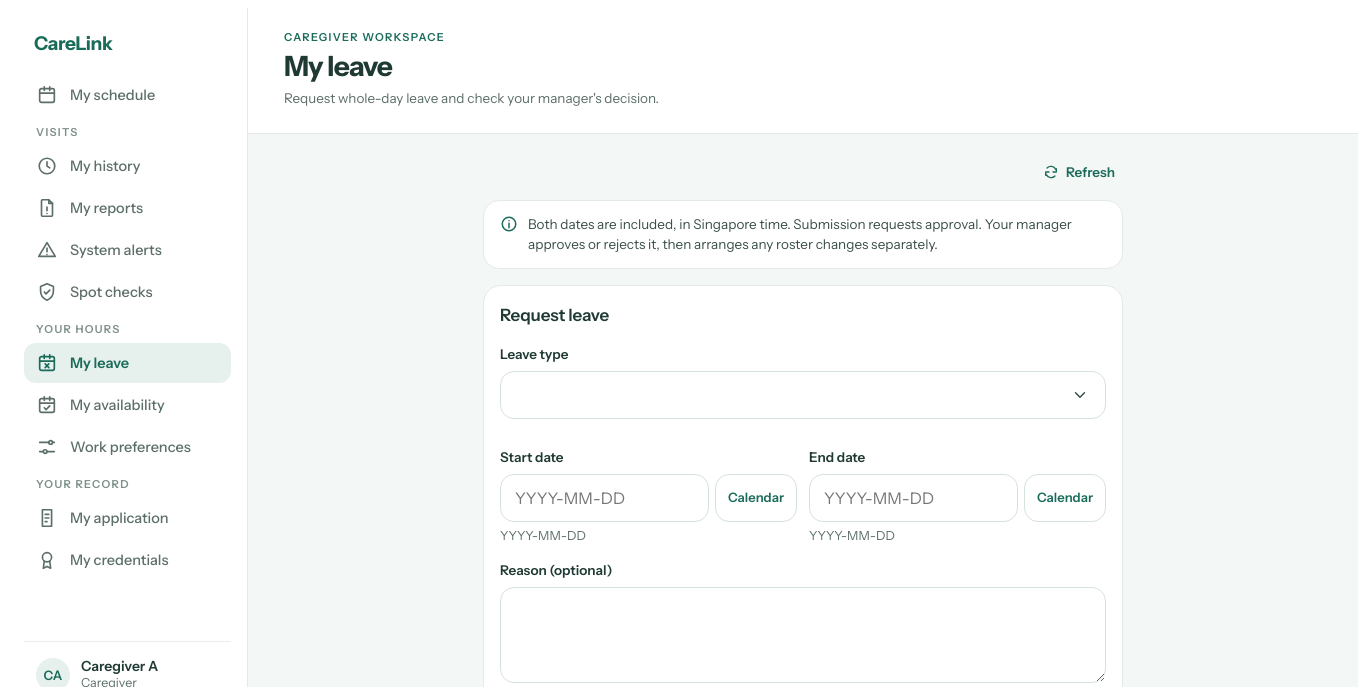
Test: caregiver leave self-service › rejects invalid or fully past dates  to
The width and height of the screenshot is (1366, 687).
Check: the heading "My leave" is shown, box [284, 49, 392, 83]
In the text box labelled "Reason (optional)": coordinates (803, 635) [500, 587, 1106, 683], type "Family time"
(page scrolled)
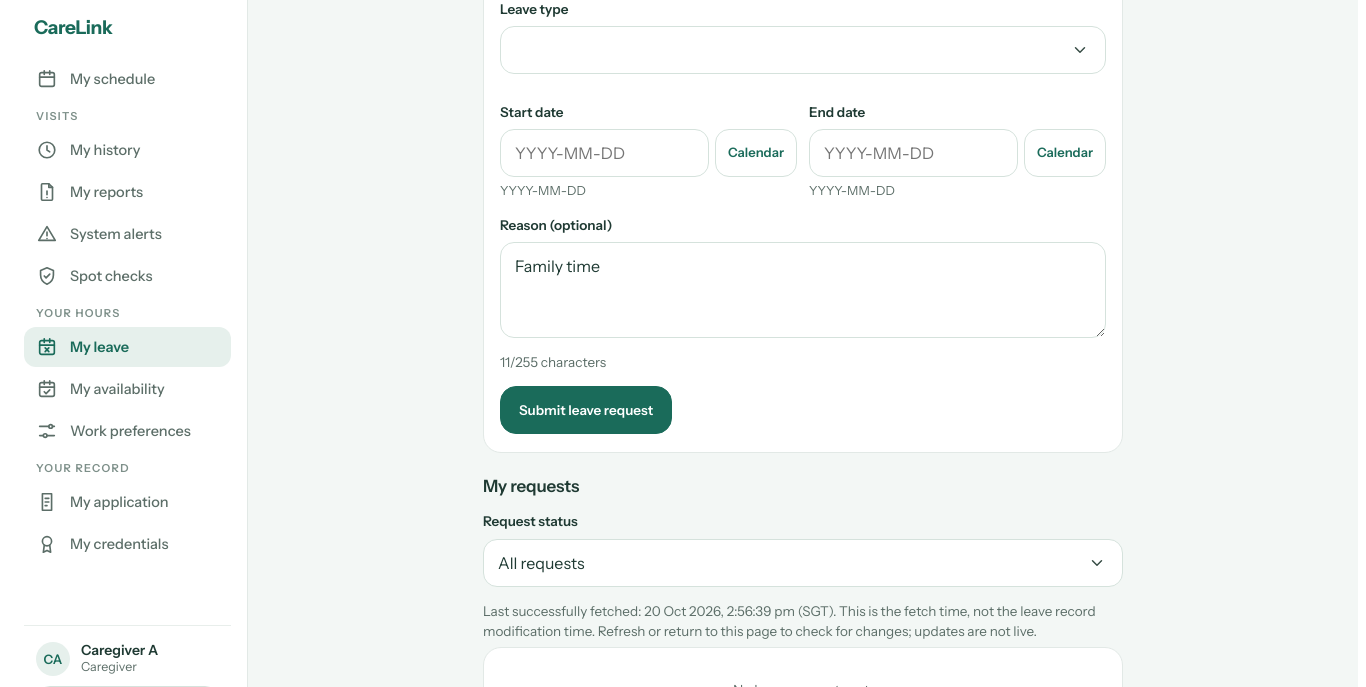
Click the button "Submit leave request": coordinates (586, 410) [500, 386, 672, 434]
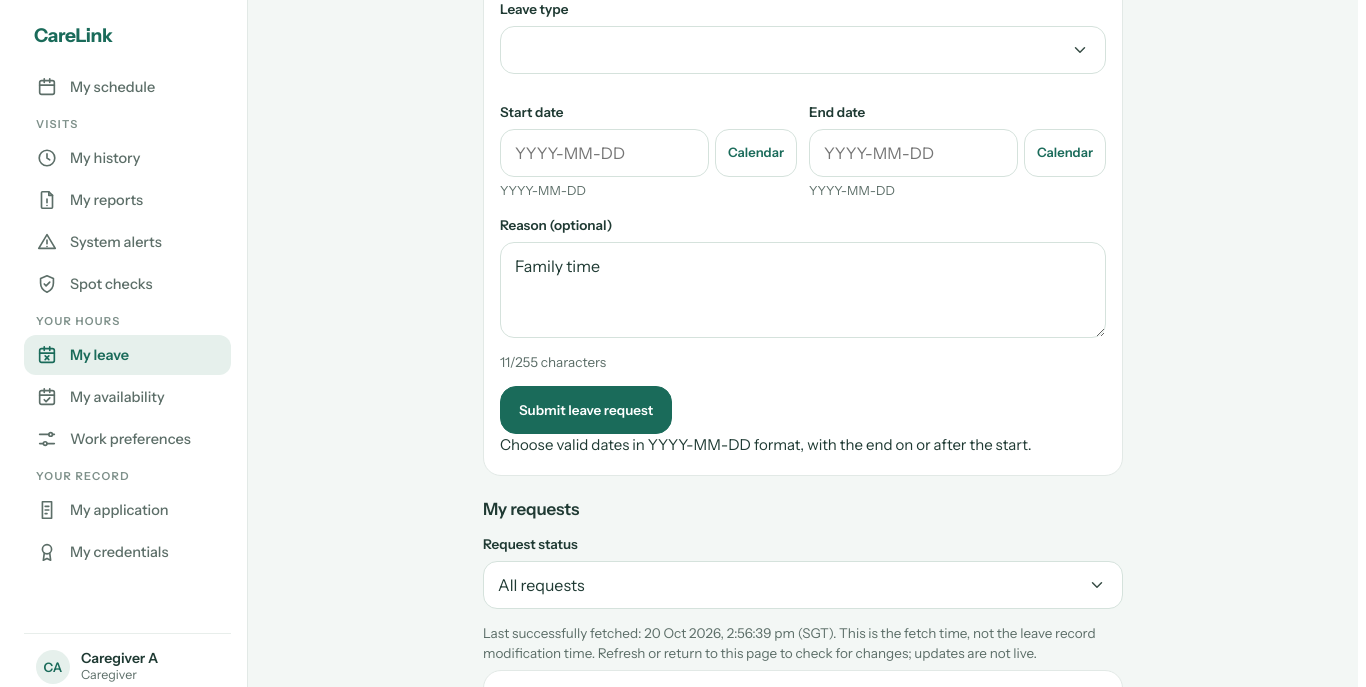
Check: the message "Choose valid dates in YYYY-MM-DD format, with the end on or after the start." is shown, box [500, 434, 1106, 457]
